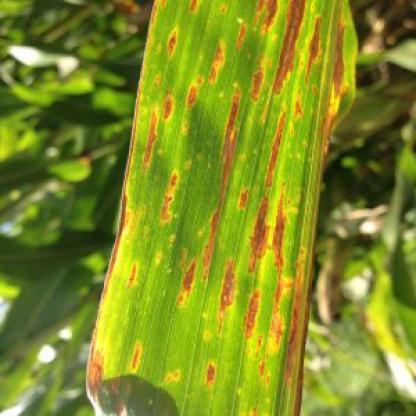corn rust leaf: (82, 1, 345, 415)
